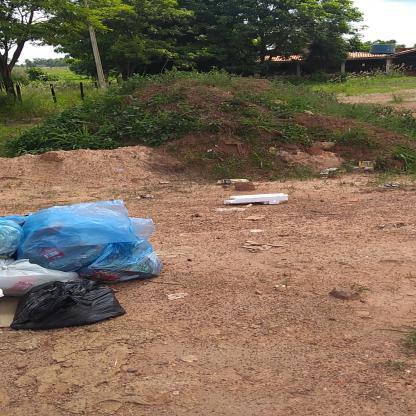lixo: (5, 204, 146, 336)
